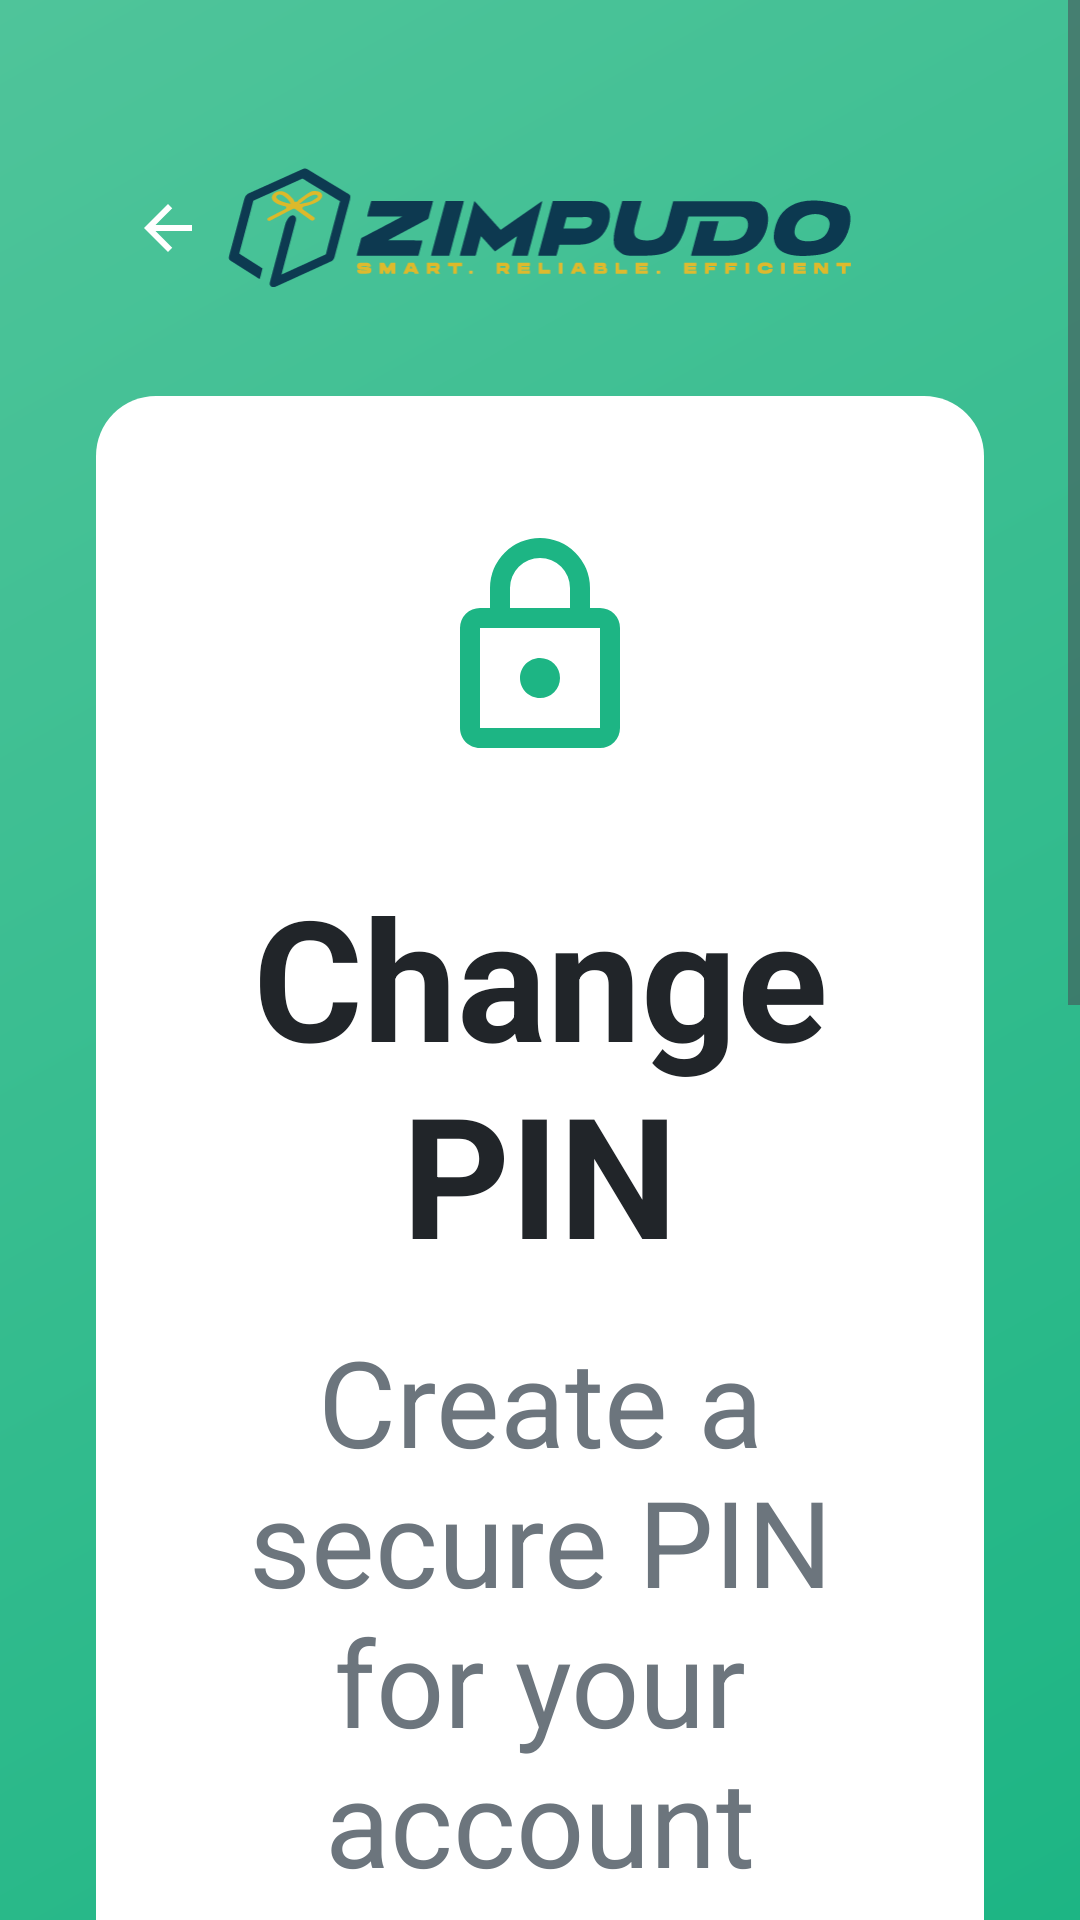

Screen size 1080 × 1920. Icon name, then its box in pixels as rect(x1, y1, x2, y2):
Back: rect(144, 204, 192, 252)
PIN security: rect(460, 538, 620, 748)
